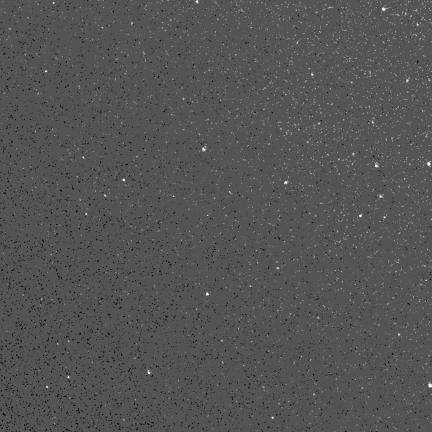blob: (382, 7, 387, 12), (284, 181, 289, 185), (206, 292, 210, 297), (202, 147, 206, 151), (359, 214, 363, 218), (427, 162, 431, 166), (311, 73, 314, 77), (148, 370, 151, 374), (375, 163, 378, 167), (122, 179, 126, 182), (429, 383, 431, 388), (82, 157, 85, 160), (85, 213, 88, 216), (46, 386, 49, 389), (68, 376, 71, 379), (45, 71, 48, 73)
